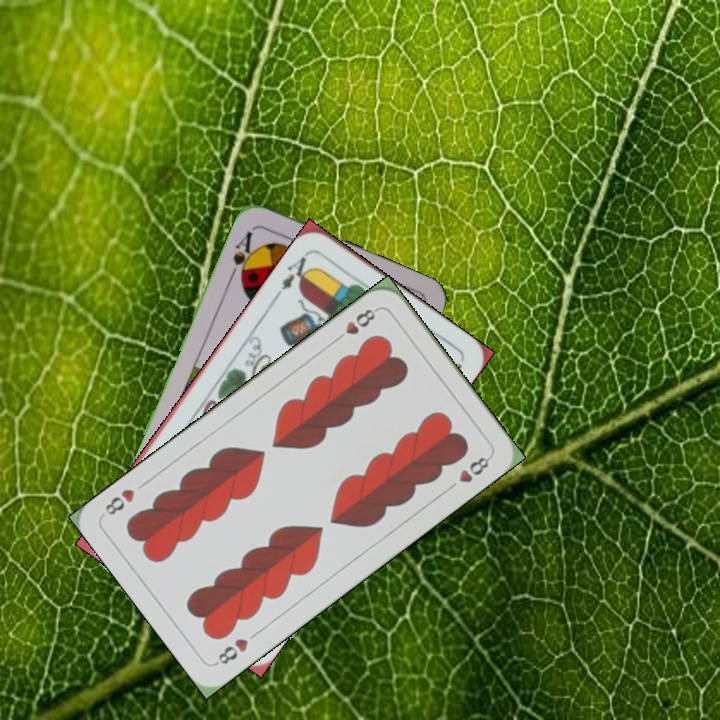EA: (277, 248, 316, 293)
H8: (330, 304, 381, 345), (211, 634, 251, 668)
SA: (226, 227, 260, 285)
